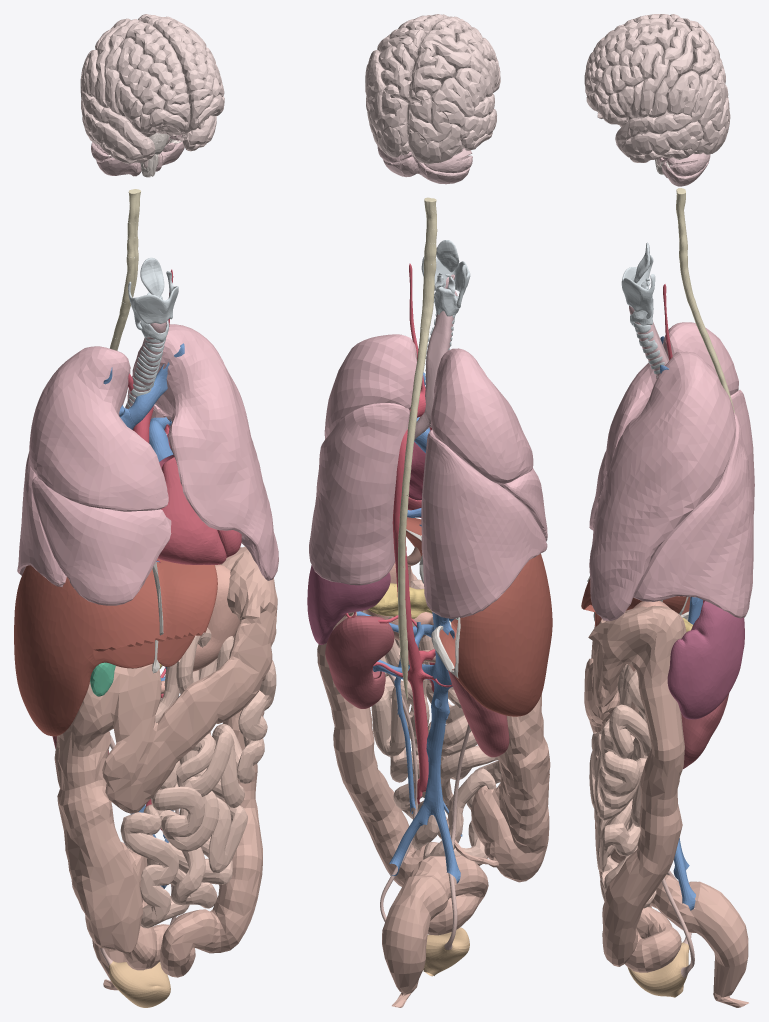
File: viscera-organs.glb
3 renders of one model, left to right at view 1: azimuth 30°, elevation 25°; view 2: azimuth 150°, elevation 25°; view 3: azimuth 270°, elevation 25°, orthographic. The views are drawn at different scales.
Parts seen in each view (by area): view 1: organ_LU_lung, organ_LI, organ_SI, organ_LR_liver, organ_BR_cortex, organ_HT_myo, organ_LU_cartilage (×2), organ_VES_vein, organ_BL, organ_ST, organ_MAR, organ_BR_cerebellum (+3 smaller); view 2: organ_LU_lung, organ_LI, organ_BR_cortex, organ_LR_liver, organ_SI, organ_KI_kidney (×2), organ_VES_vein, organ_MAR, organ_VES_artery, organ_SP, organ_LU_cartilage, organ_BR_cerebellum (+7 smaller); view 3: organ_LU_lung, organ_LI, organ_BR_cortex, organ_SI, organ_SP, organ_LU_cartilage (×2), organ_MAR, organ_BL, organ_KI_kidney, organ_BR_cerebellum, organ_VES_vein, organ_LR_liver (+2 smaller).
Boxes of the visible parts, box(x1,y1,x2,y2) form: organ_LU_lung: box(17, 324, 278, 605); organ_LI: box(54, 546, 277, 990); organ_SI: box(120, 627, 276, 928); organ_LR_liver: box(14, 558, 217, 736); organ_BR_cortex: box(80, 14, 224, 168); organ_HT_myo: box(158, 457, 241, 564); organ_LU_cartilage (×2): box(125, 257, 178, 408); organ_VES_vein: box(103, 343, 184, 888); organ_BL: box(109, 961, 170, 1007); organ_ST: box(161, 564, 240, 693); organ_MAR: box(109, 189, 140, 350); organ_BR_cerebellum: box(91, 134, 184, 176); organ_LU_lung: box(309, 334, 547, 618); organ_LI: box(317, 546, 550, 1007); organ_BR_cortex: box(365, 14, 500, 164); organ_LR_liver: box(406, 517, 552, 716); organ_SI: box(361, 579, 501, 865); organ_KI_kidney (×2): box(325, 615, 509, 757); organ_VES_vein: box(356, 372, 462, 883); organ_MAR: box(398, 197, 437, 700); organ_VES_artery: box(345, 263, 452, 804); organ_SP: box(307, 565, 390, 644); organ_LU_cartilage: box(421, 240, 470, 316); organ_BR_cerebellum: box(377, 145, 472, 184); organ_LU_lung: box(589, 322, 754, 621); organ_LI: box(584, 605, 748, 1007); organ_BR_cortex: box(584, 14, 730, 165); organ_SI: box(589, 664, 656, 908); organ_SP: box(667, 601, 744, 719); organ_LU_cartilage (×2): box(621, 242, 664, 377); organ_MAR: box(676, 188, 734, 412); organ_BL: box(627, 942, 689, 997); organ_KI_kidney: box(681, 693, 729, 768); organ_BR_cerebellum: box(659, 152, 710, 186); organ_VES_vein: box(660, 336, 703, 910); organ_LR_liver: box(581, 578, 690, 626).
Size of the model in its own units: 0.2417 by 0.9746 by 0.1553.
